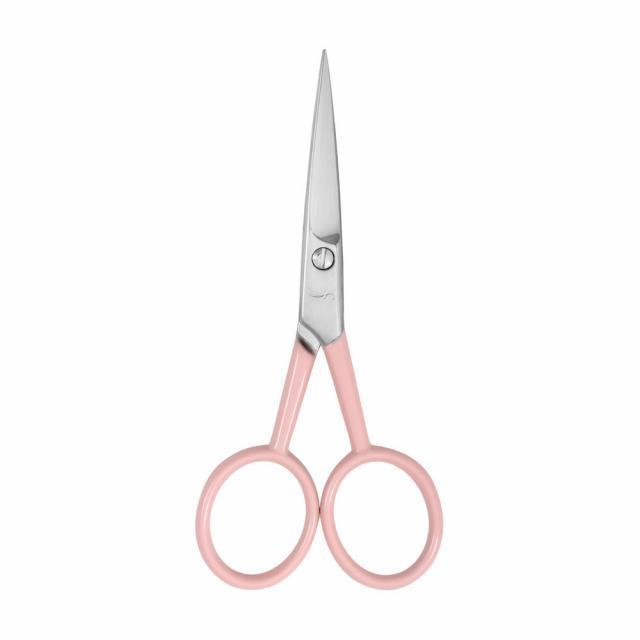scissors: (191, 42, 448, 594)
